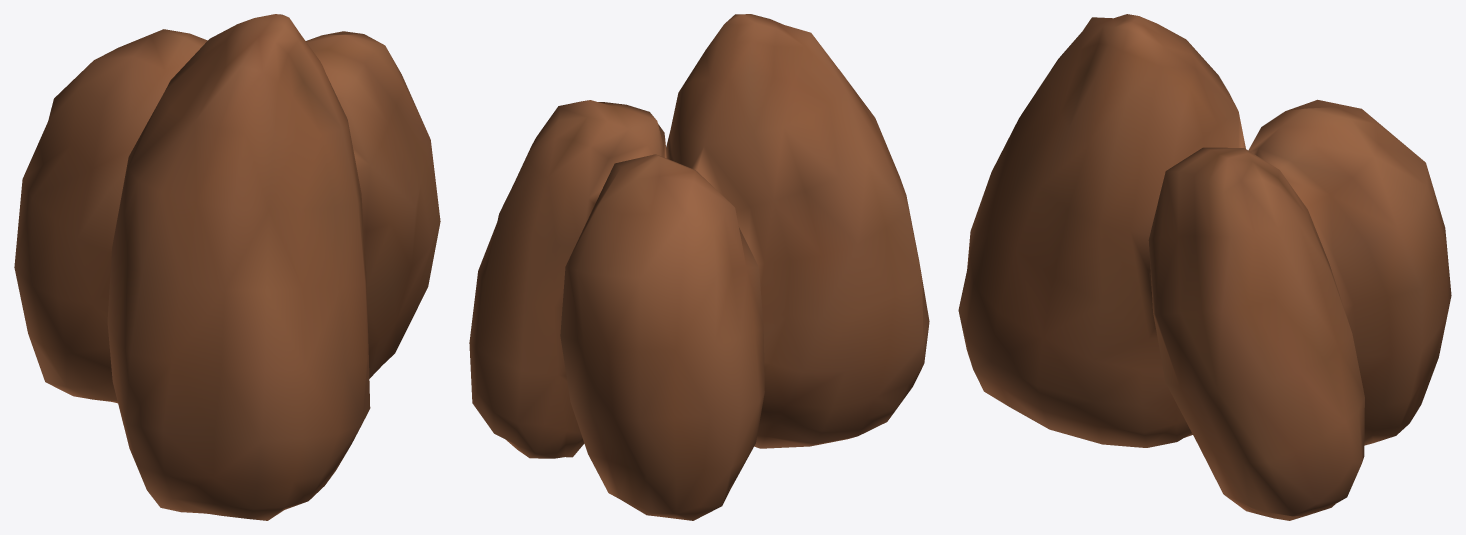
Rendered from Cliffs_5_Desert_Village.fbx.
3 views of the same model, side by side, from view 1: azimuth 30°, elevation 25°; view 2: azimuth 150°, elevation 25°; view 3: azimuth 270°, elevation 25° (orthographic). The views are drawn at different scales.
Visible parts, largest first — view 1: Cliffs_5_Desert Village; view 2: Cliffs_5_Desert Village; view 3: Cliffs_5_Desert Village.
Part boxes in pixels (x1,y1,x2,y2): Cliffs_5_Desert Village: (14, 14, 440, 520); Cliffs_5_Desert Village: (469, 14, 929, 520); Cliffs_5_Desert Village: (958, 14, 1451, 520).
Size of the model in its own units: 852 by 940 by 970.
